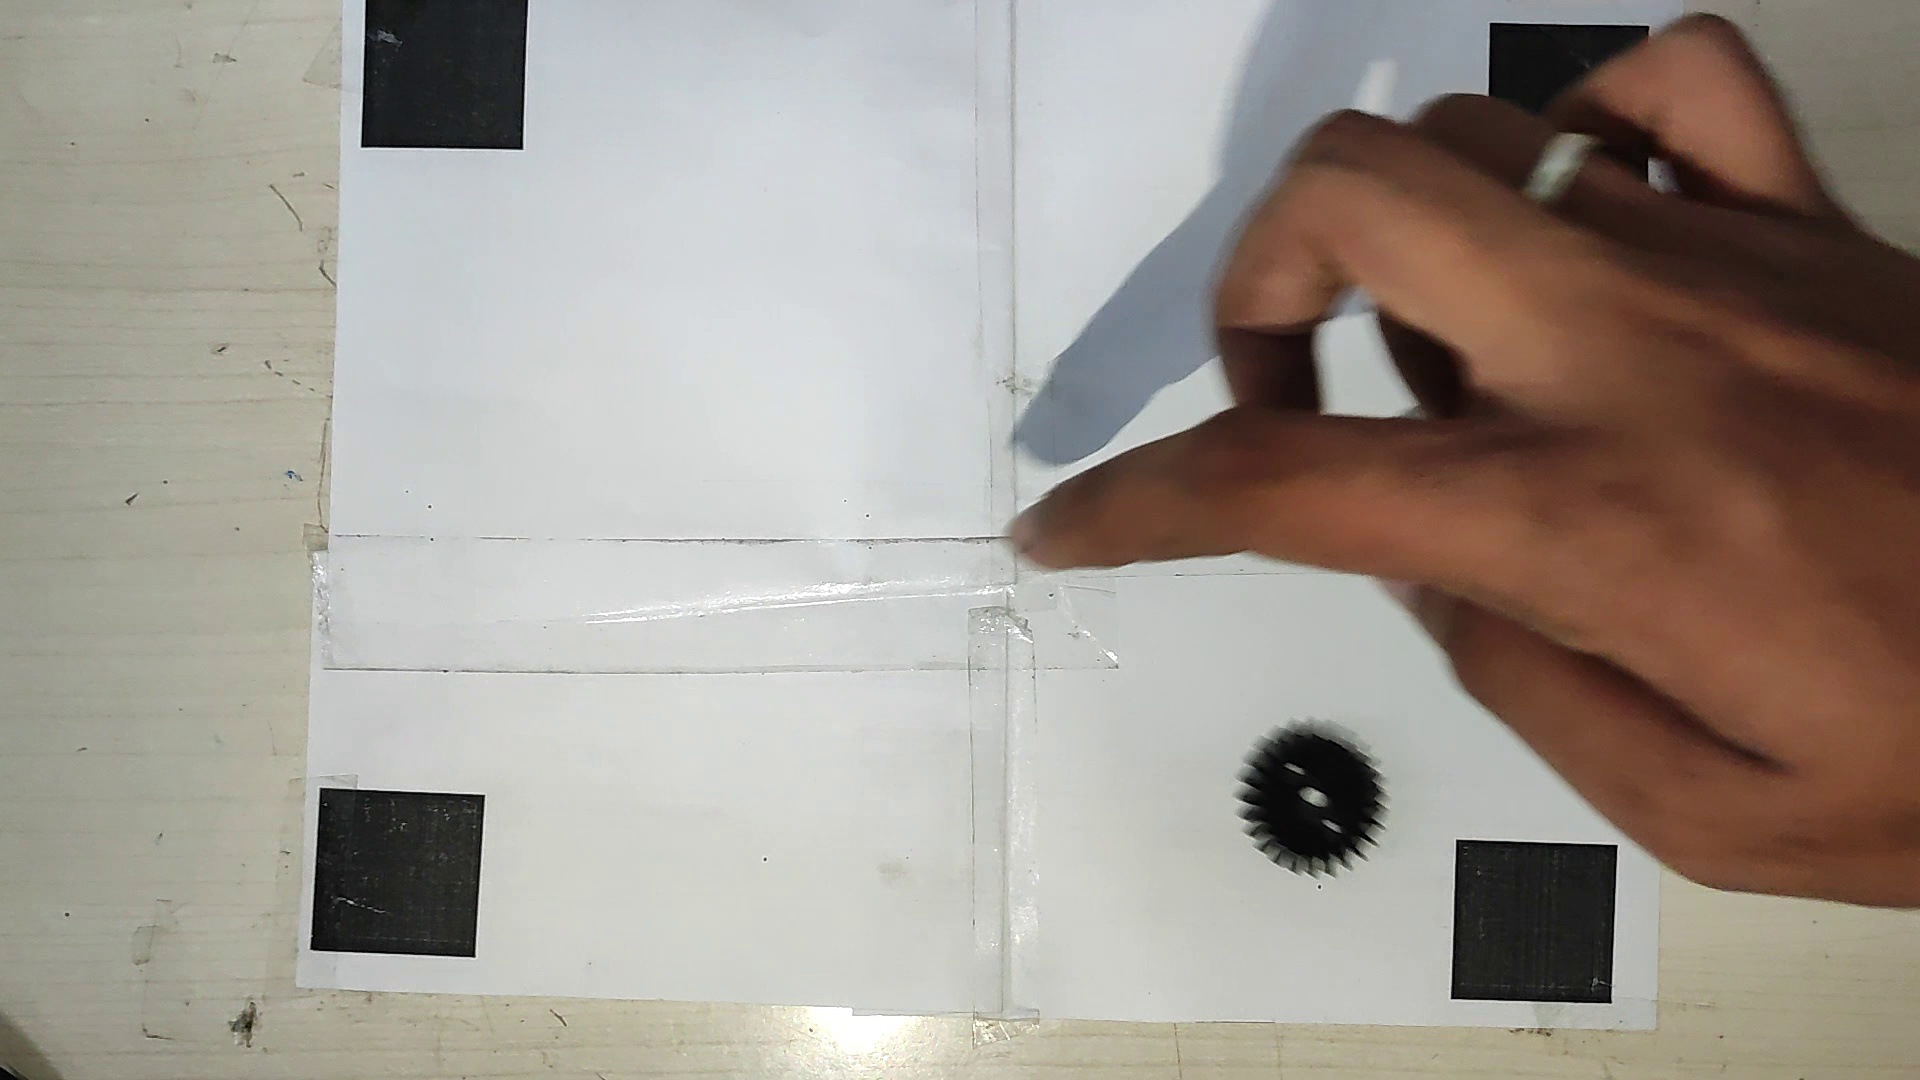Gear: (1232, 719, 1382, 877)
